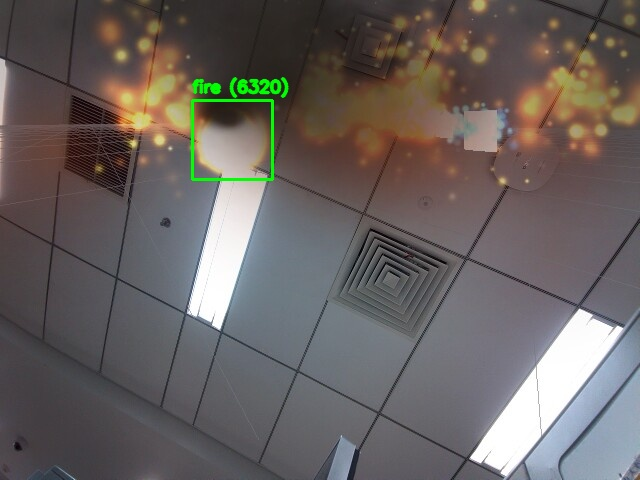fire: (192, 100, 272, 179)
